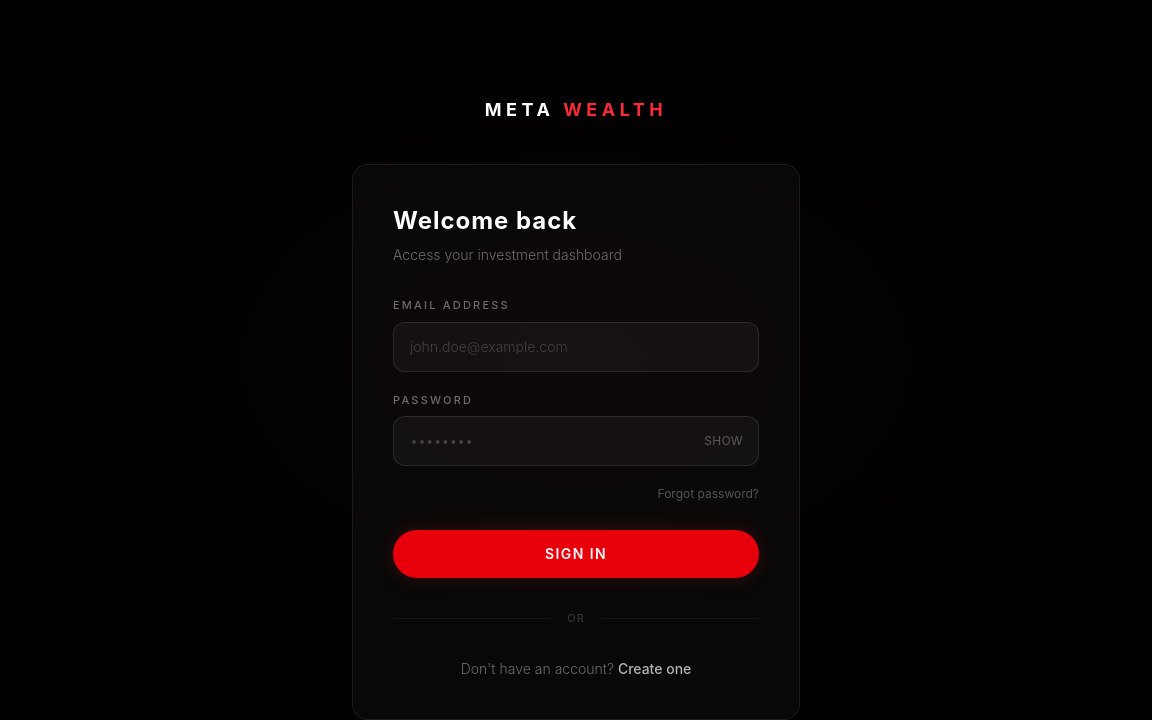
LoginPage Component Supabase Auth Integration › displays clean error message when authentication fails
Type "wrong@example.com" into the field labelled "Email Address".
click(576, 346); type("wrong@example.com")  # box [393,322,759,372]
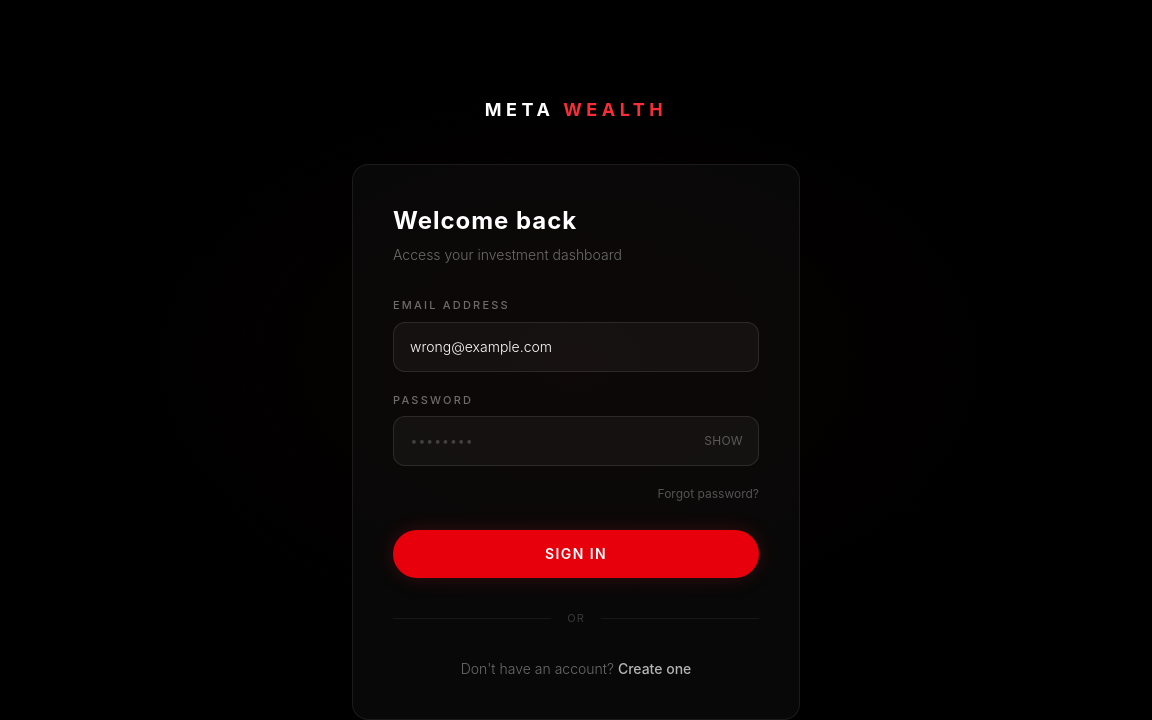
Type "wrongpass" into the password field labelled "Password".
click(576, 441); type("wrongpass")  # box [393,416,759,466]
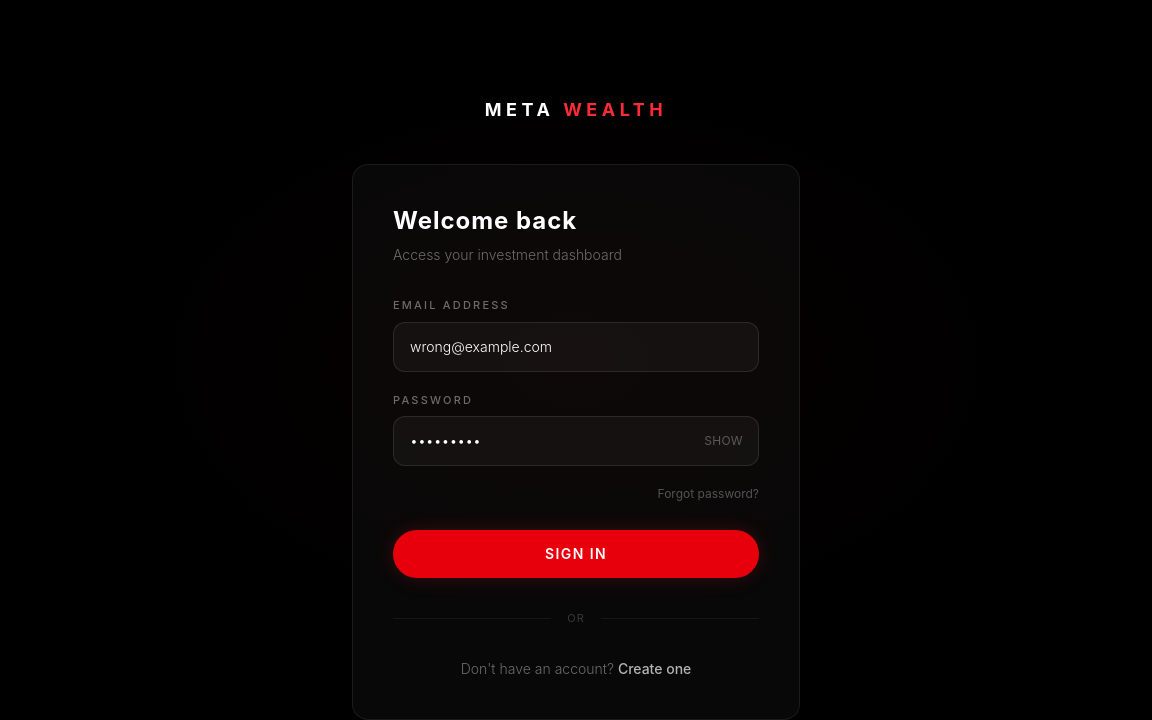
Click the button "Sign In".
click(576, 554)  # box [393,530,759,578]
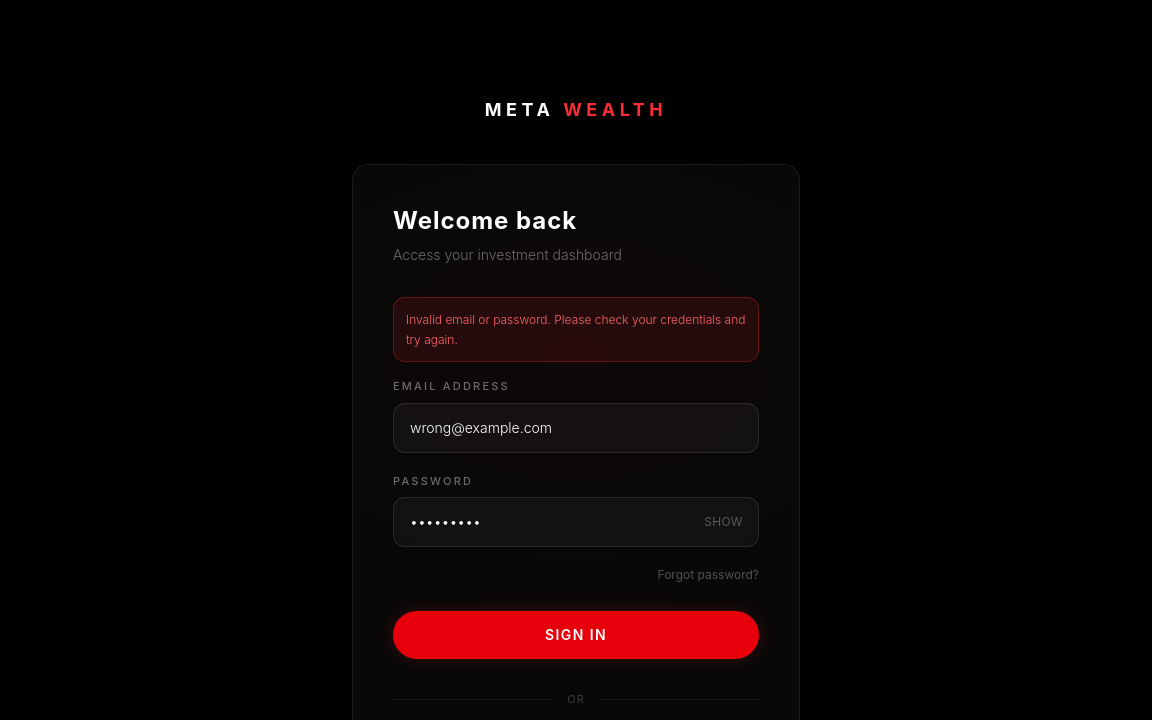
Expected: the text "Invalid email or password" is shown, [406,312,746,346]
